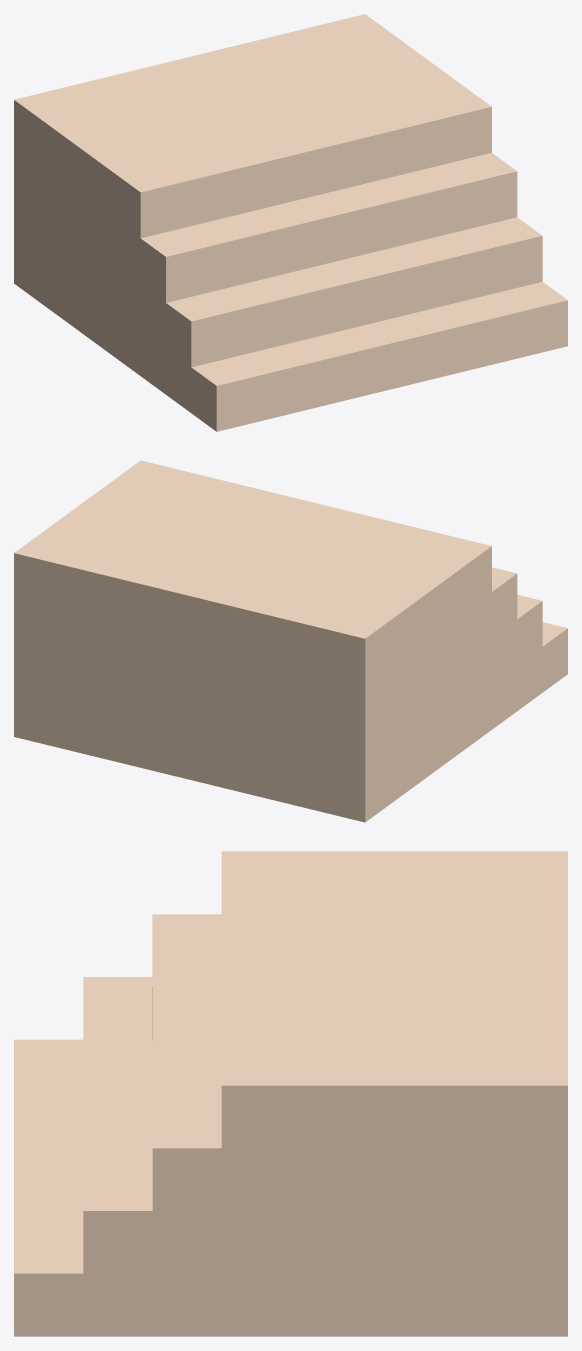
File: Abstract_Modular_Stairs_0.5_Beige_01.fbx
The picture shows the model from 3 angles, top to bottom: view 1: azimuth 30°, elevation 25°; view 2: azimuth 150°, elevation 25°; view 3: azimuth 270°, elevation 25°; orthographic projection. The views are drawn at different scales.
Visible parts, largest first — view 1: Abstract_Modular_Stairs_0.5_Beige_01; view 2: Abstract_Modular_Stairs_0.5_Beige_01; view 3: Abstract_Modular_Stairs_0.5_Beige_01.
Part boxes in pixels (box(x1,y1,x2,y2)): Abstract_Modular_Stairs_0.5_Beige_01: box(14, 14, 567, 431); Abstract_Modular_Stairs_0.5_Beige_01: box(14, 460, 567, 822); Abstract_Modular_Stairs_0.5_Beige_01: box(14, 851, 567, 1336).
Size of the model in its own units: 118 by 59.06 by 118.
